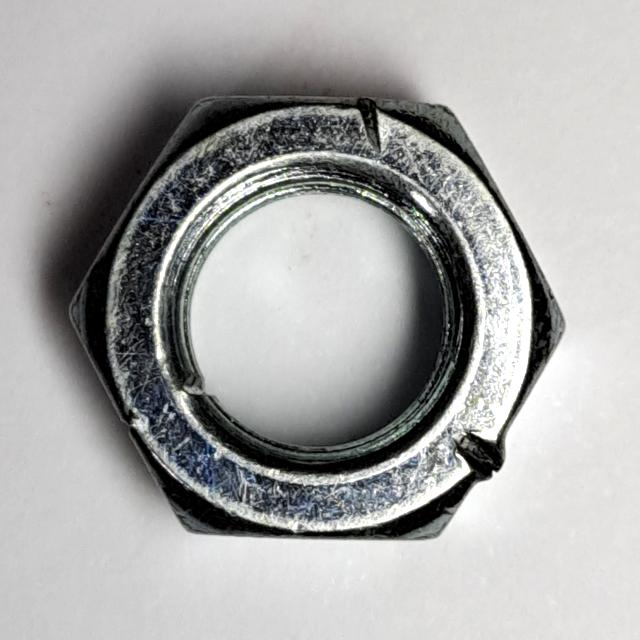Scratches: (53, 83, 580, 559)
